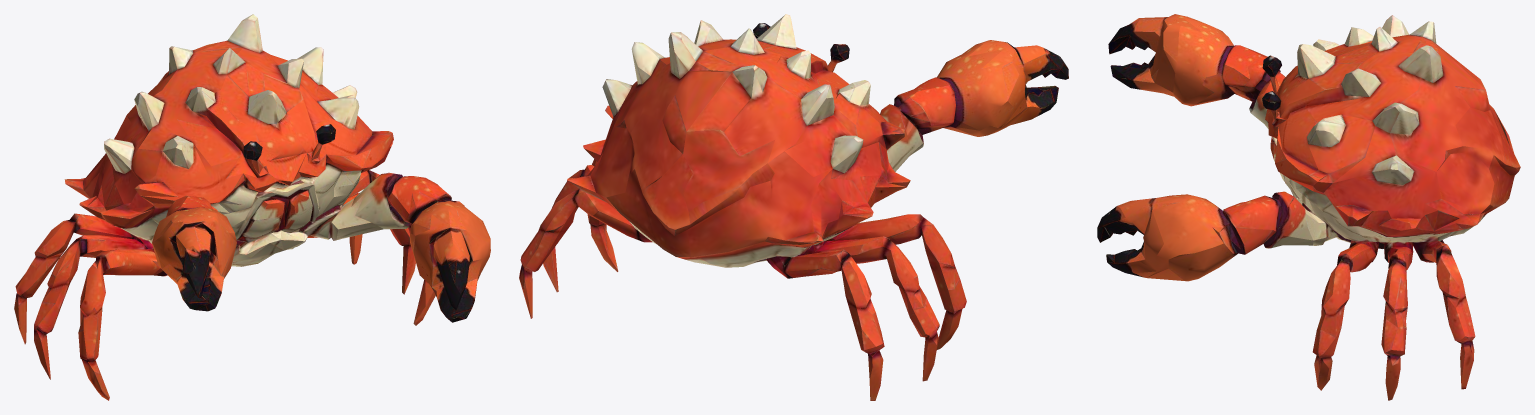
The model's file is reef_crab.glb.
3 renders of one model, left to right at view 1: azimuth 30°, elevation 25°; view 2: azimuth 150°, elevation 25°; view 3: azimuth 270°, elevation 25°, orthographic. The views are drawn at different scales.
Bounding box in the file's own units: 1.9 × 1.41 × 1.85.
1 material, 1 textured.
